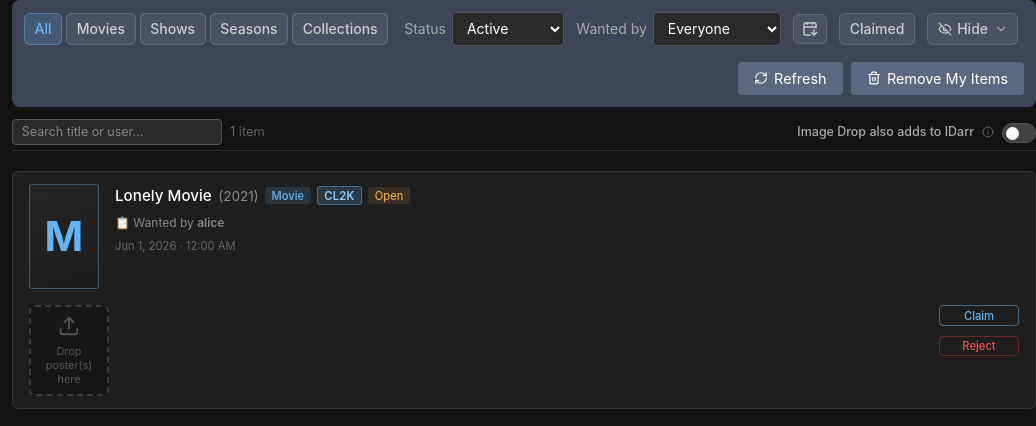
Test: ListsView — claim and complete › claims an open item, then completes it (removing the card)
Expected: the text "Lonely Movie" is shown, [115,186,212,205]
Expected: the text "📋 Wanted by alice" is shown, [115,215,224,230]
Click the button "Claim" at (979, 316), box [939,305,1019,326]
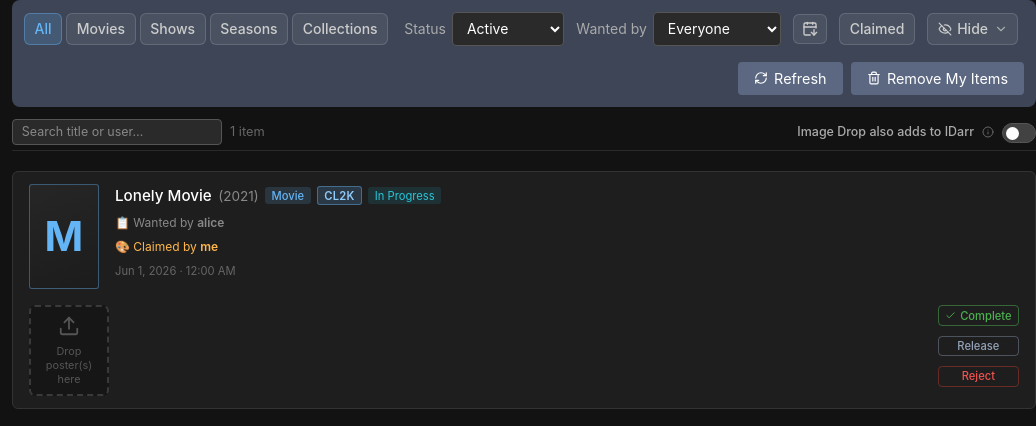
Expected: the text "🎨 Claimed by me" is shown, [115,239,218,254]
Click the button "Complete" at (978, 316), box [938,305,1019,326]
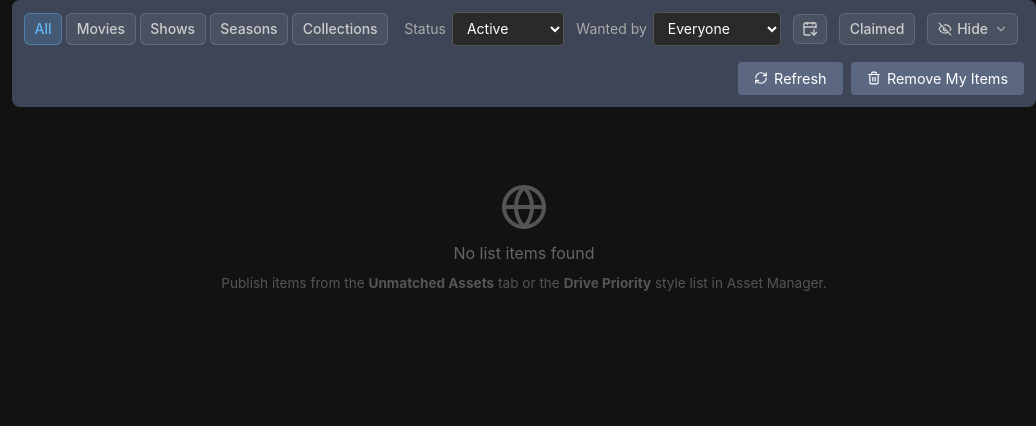
Expected: the text "Lonely Movie" is gone
